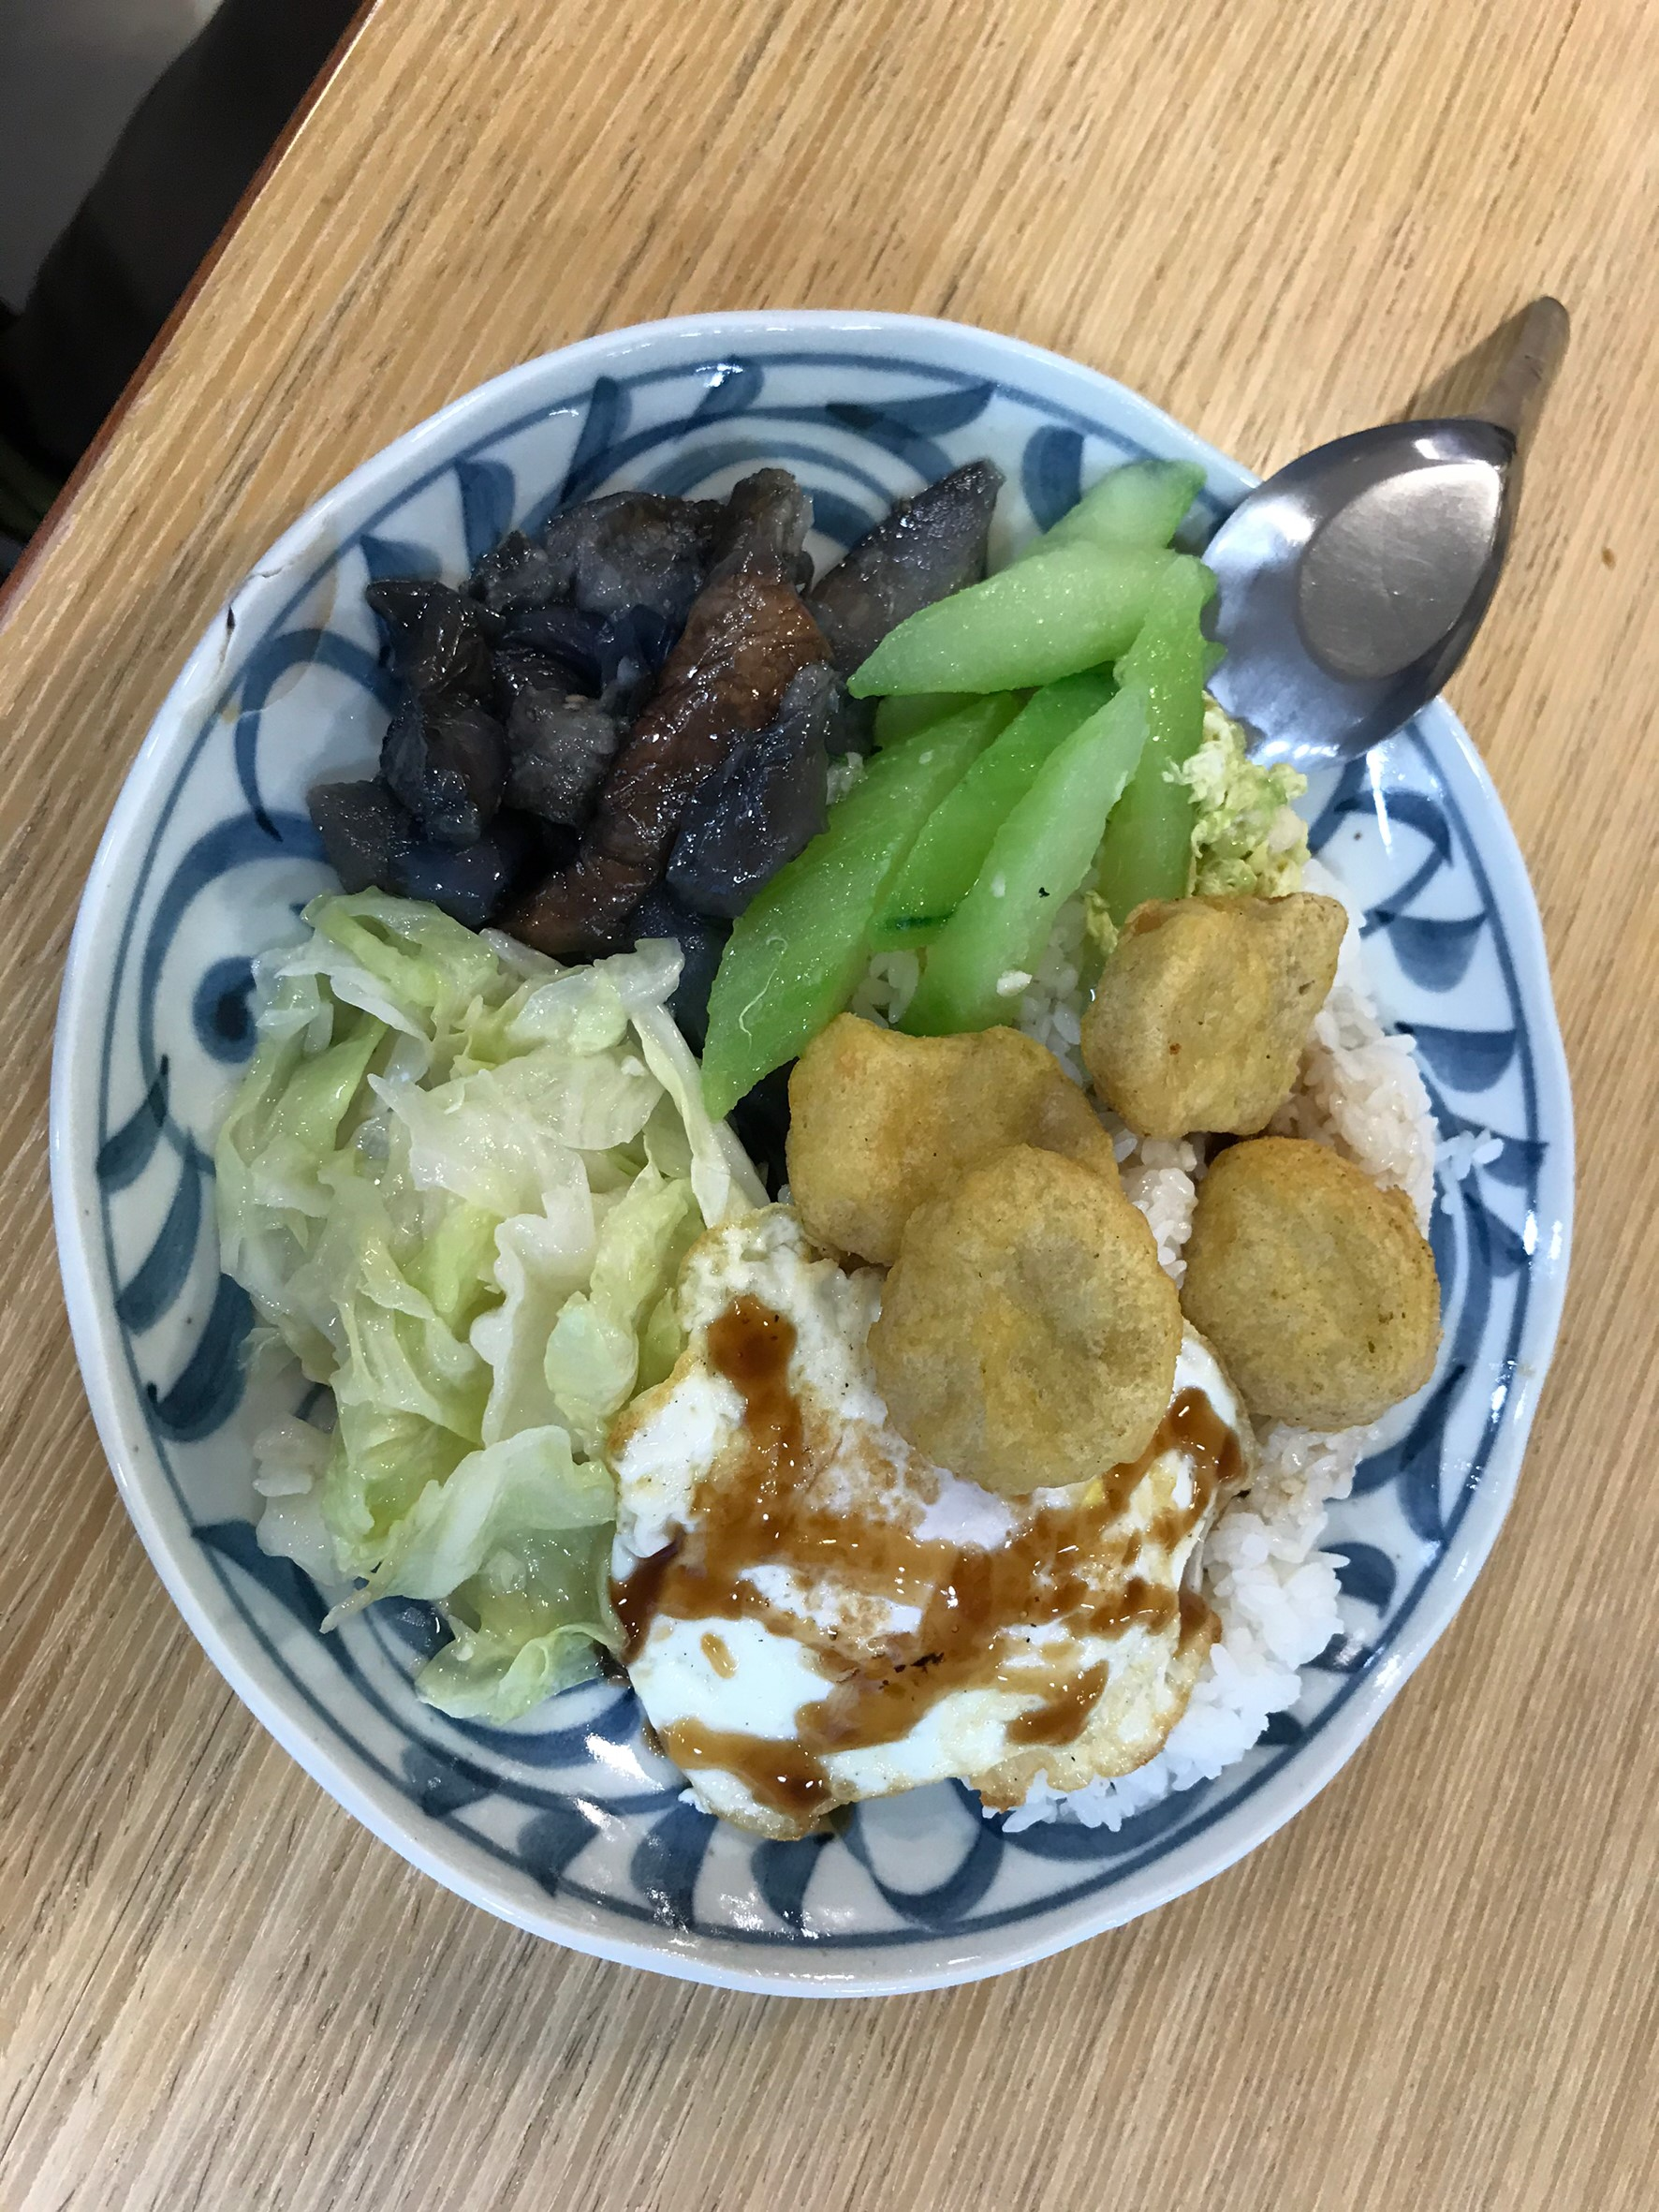chicken_nuggets: (779, 889, 1445, 1442)
chinese_cabbage: (225, 933, 701, 1708)
fried_eggs: (619, 1325, 1230, 1834)
rice: (1190, 1428, 1366, 1766)
